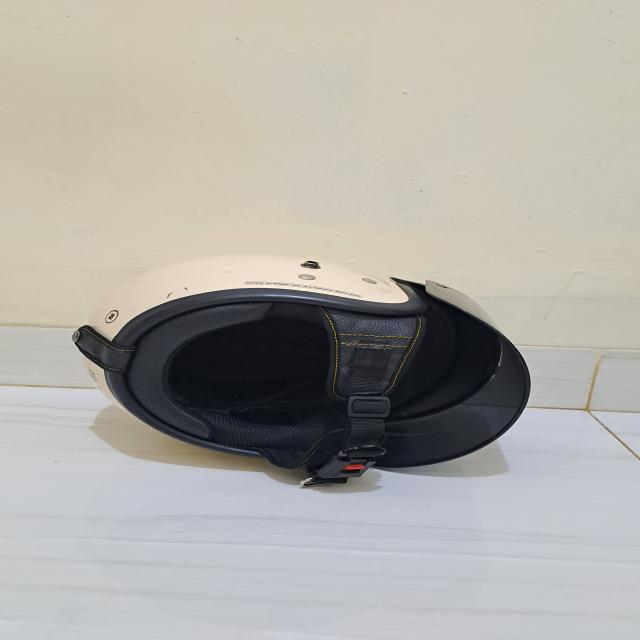Helm: (52, 248, 564, 496)
